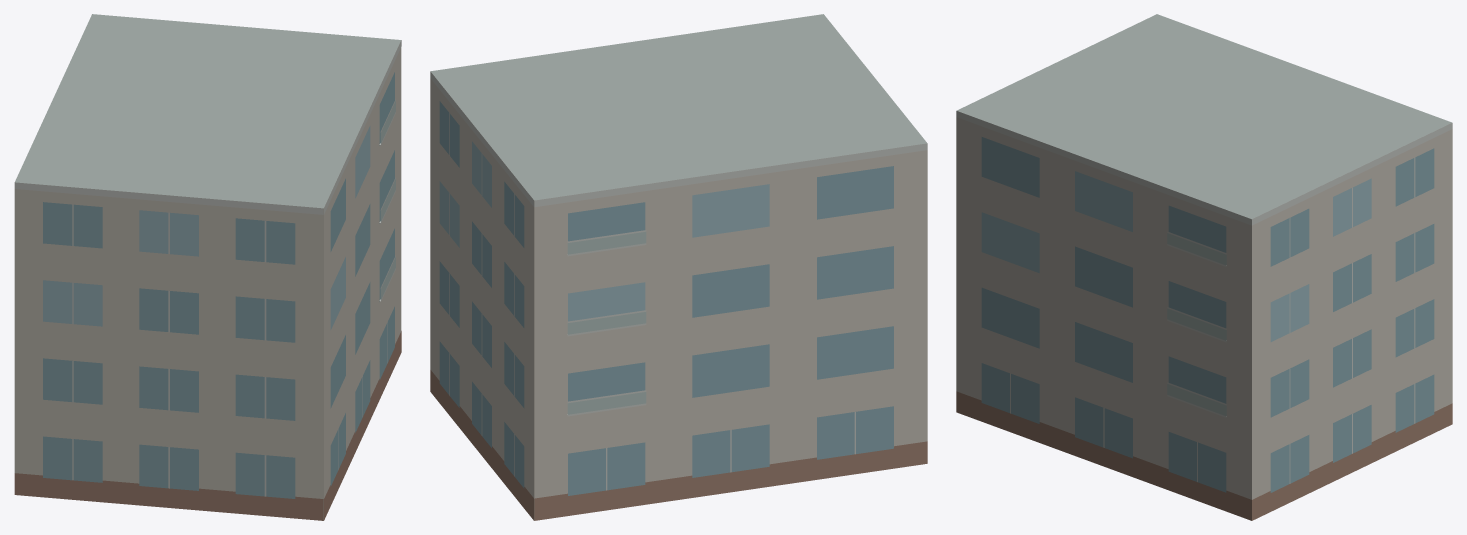
Rendered from survey-upis-32714373.glb.
3 renders of one model, left to right at view 1: azimuth 30°, elevation 25°; view 2: azimuth 150°, elevation 25°; view 3: azimuth 270°, elevation 25°, orthographic. The views are drawn at different scales.
Parts seen in each view (by area): view 1: survey-upis-32714373.tmp; view 2: survey-upis-32714373.tmp; view 3: survey-upis-32714373.tmp.
Boxes of the visible parts, x1,y1,x2,y2 form: survey-upis-32714373.tmp: (14, 14, 401, 520); survey-upis-32714373.tmp: (430, 14, 927, 520); survey-upis-32714373.tmp: (956, 14, 1452, 520).
Size of the model in its own units: 16.93 by 11.59 by 17.29.
